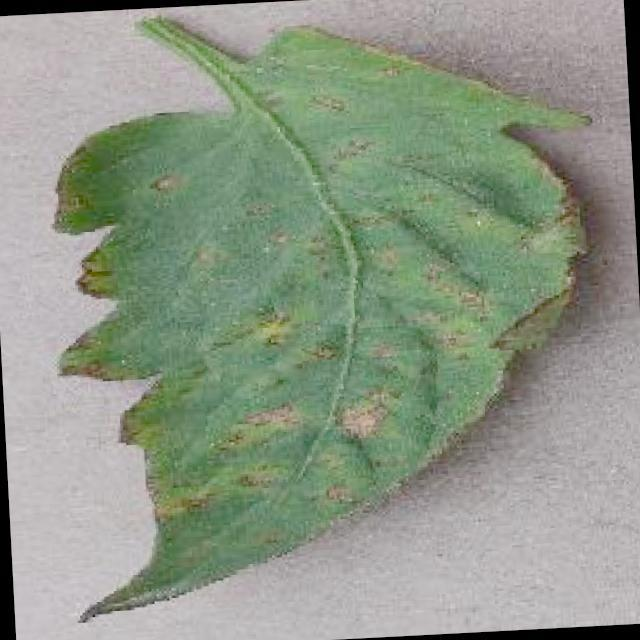Tomato bacterial spot leaf: (31, 7, 624, 632)
